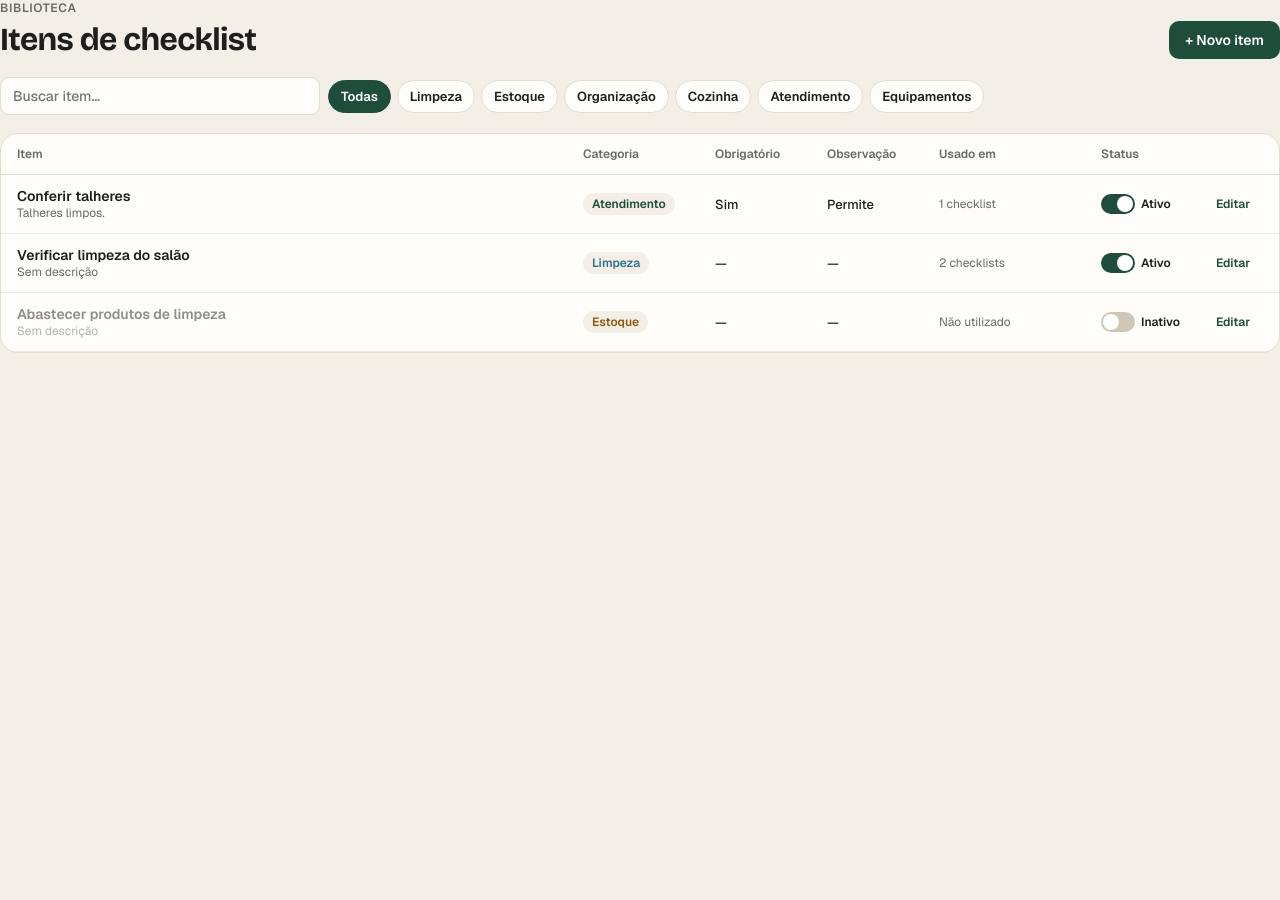
Test: US12 — itens (web) › nome vazio valida no próprio modal; duplicado mostra erro da API (erro)
Click the button "+ Novo item": click(1225, 40) [1169,21,1279,59]
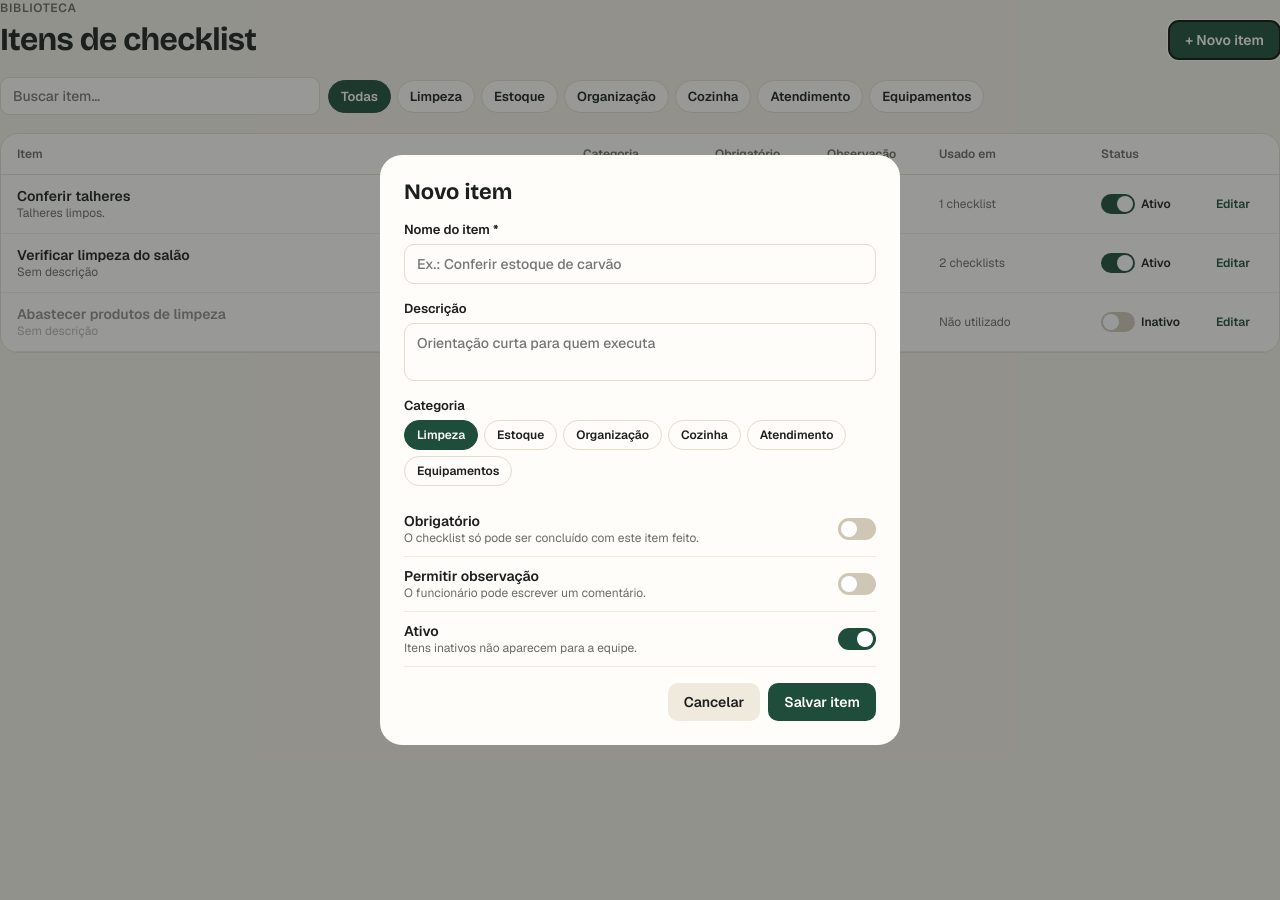
Click the button "Salvar item": click(822, 702) [768,683,876,721]
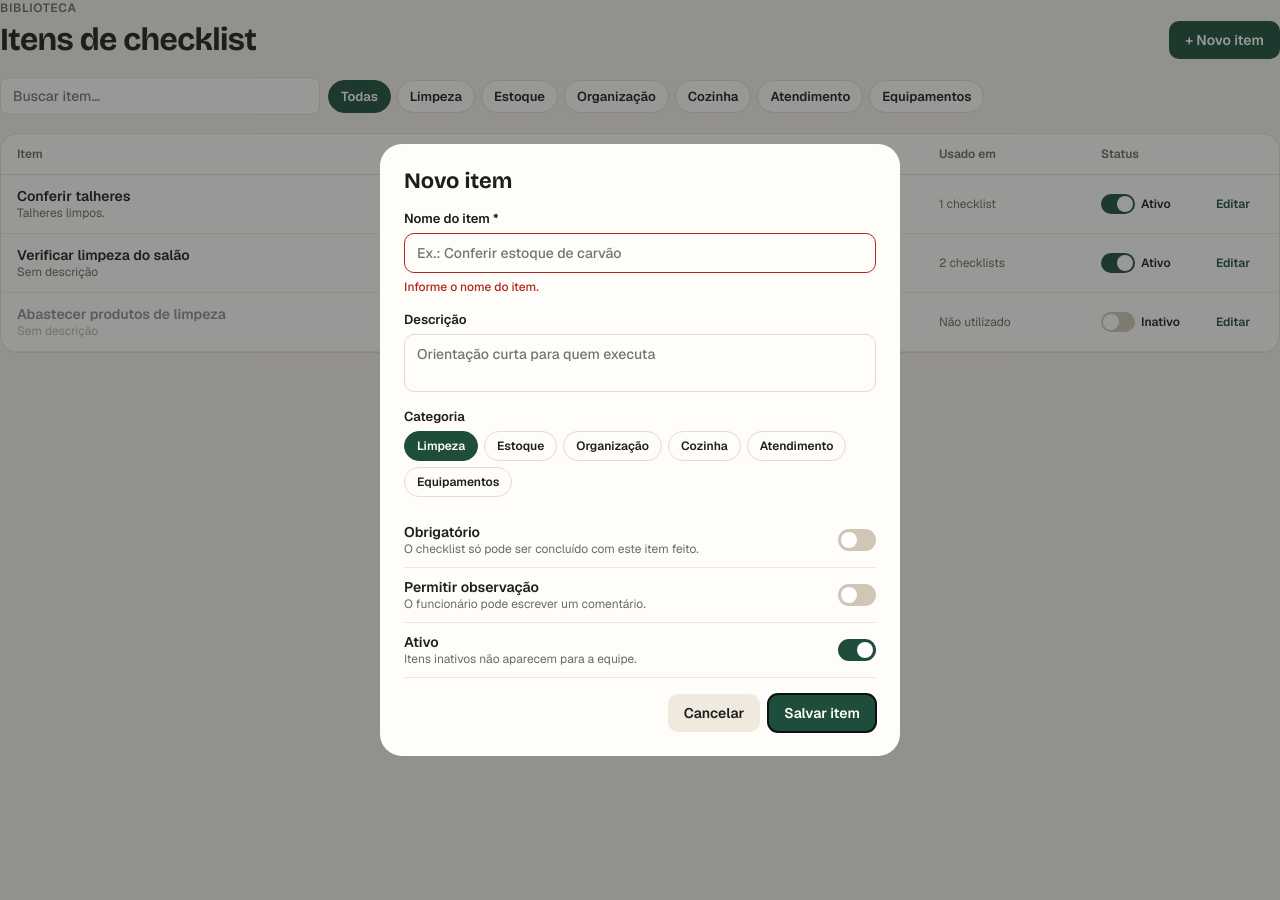
expect the text "Informe o nome do item." is shown: met, box [404,279,539,295]
In the field labelled "Nome do item *": (640, 253) [404,233,876,273], type "Conferir talheres"
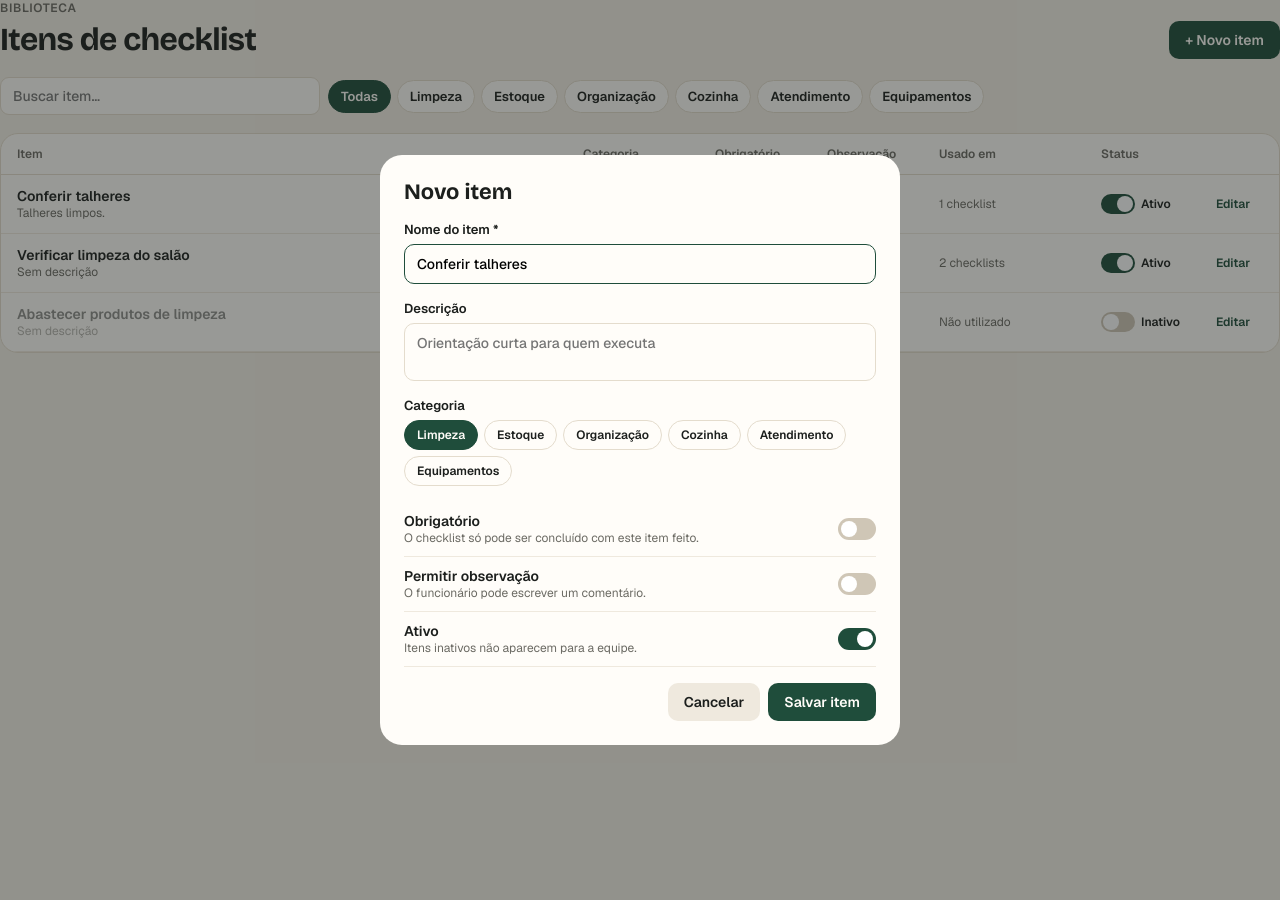
expect the text "Informe o nome do item." is gone: met
Click the button "Salvar item": click(822, 702) [768,683,876,721]
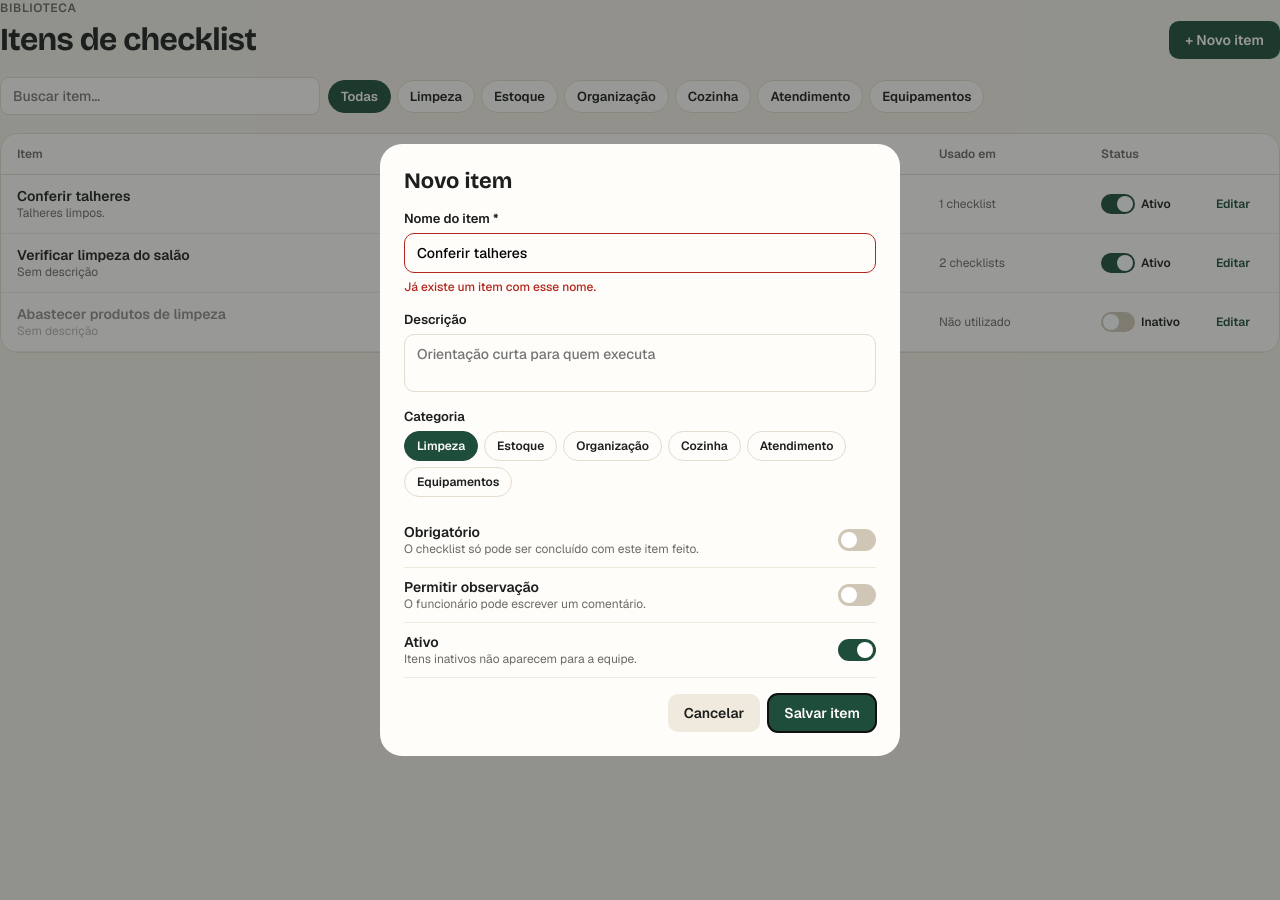
expect the text "Já existe um item com esse nome." is shown: met, box [404,279,596,295]
